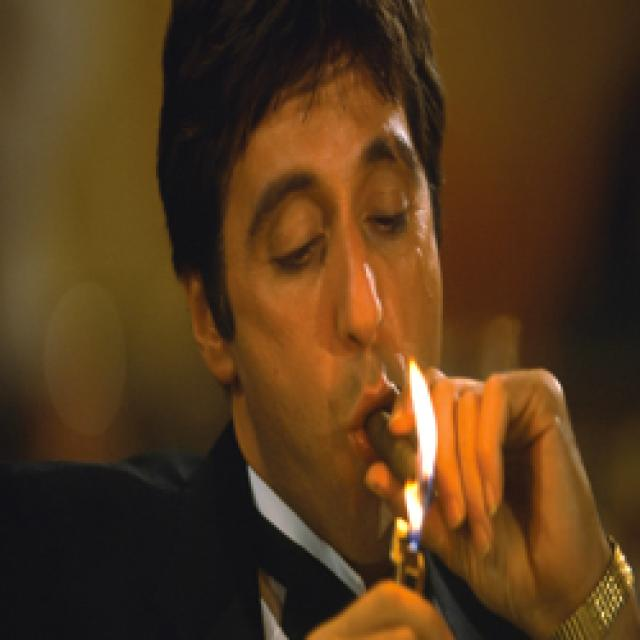Smooking: (360, 396, 441, 537)
